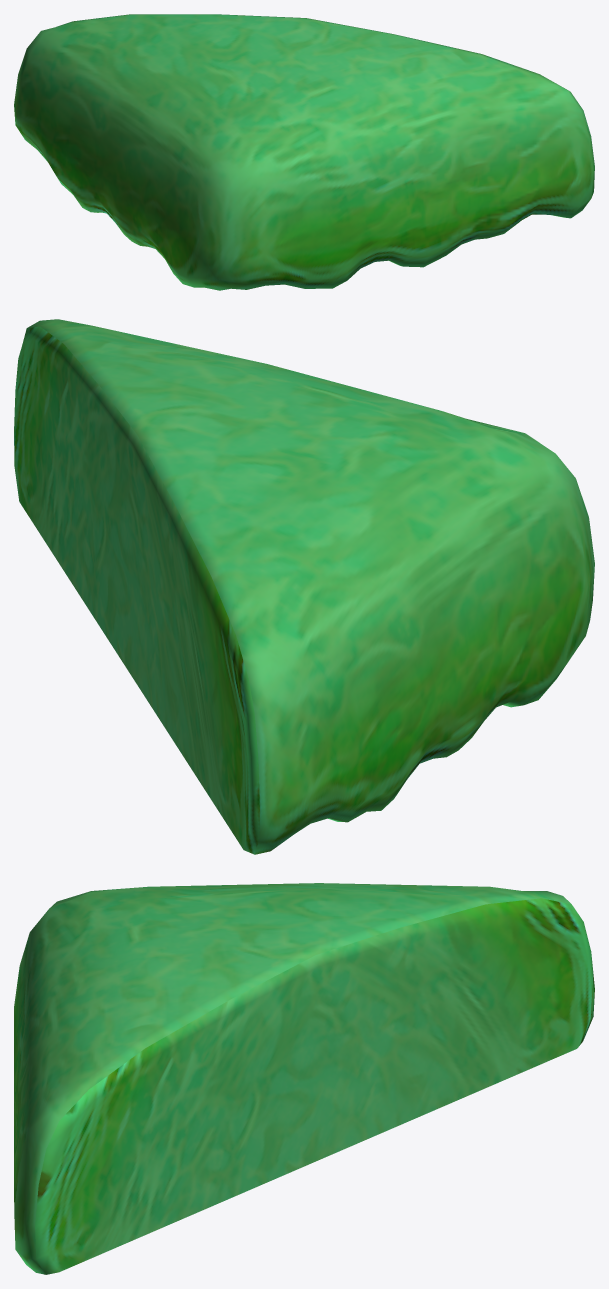
Rendered from GrassHalf.fbx.
3 views of the same model, one above another, from view 1: azimuth 30°, elevation 25°; view 2: azimuth 150°, elevation 25°; view 3: azimuth 270°, elevation 25° (orthographic). The views are drawn at different scales.
Parts seen in each view (by area): view 1: GrassHalf; view 2: GrassHalf; view 3: GrassHalf.
Part boxes in pixels (x1,y1,x2,y2): GrassHalf: (14, 14, 594, 290); GrassHalf: (14, 319, 594, 854); GrassHalf: (14, 883, 594, 1274).
Bounding box in the file's own units: 102 × 44.93 × 102.
